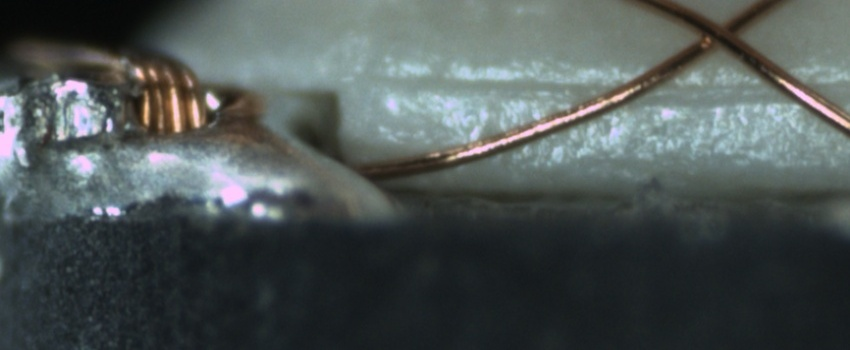CL: (681, 4, 762, 63)
DL: (384, 55, 850, 114)
TE: (124, 43, 219, 152)
